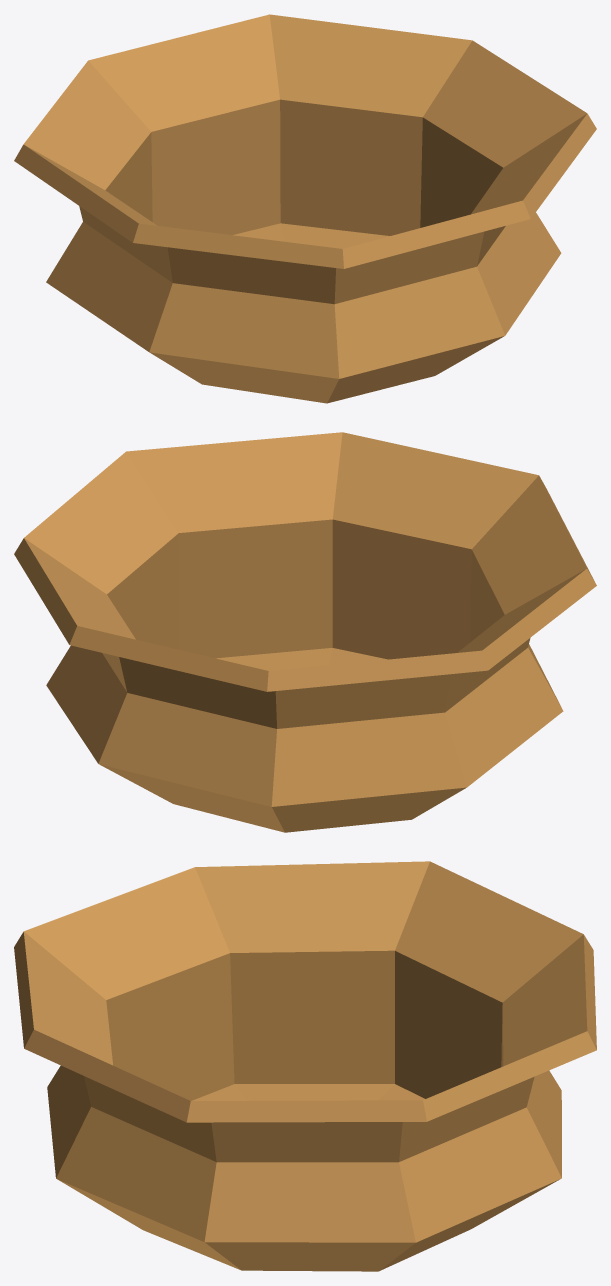
File: SM_Prop_Gold_Bowl_01.fbx
3 views of the same model, one above another, from view 1: azimuth 30°, elevation 25°; view 2: azimuth 150°, elevation 25°; view 3: azimuth 270°, elevation 25° (orthographic). The views are drawn at different scales.
Parts seen in each view (by area): view 1: SM_Prop_Gold_Bowl_01; view 2: SM_Prop_Gold_Bowl_01; view 3: SM_Prop_Gold_Bowl_01.
Boxes of the visible parts, left/top/right/bottom form: SM_Prop_Gold_Bowl_01: left=14, top=14, right=596, bottom=403; SM_Prop_Gold_Bowl_01: left=14, top=432, right=596, bottom=832; SM_Prop_Gold_Bowl_01: left=14, top=861, right=596, bottom=1271.
Bounding box in the file's own units: 75.23 × 31.37 × 74.54.
